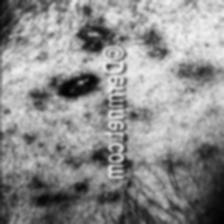Non-Cancerous Skin Condition: (0, 17, 96, 211), (141, 36, 219, 112)
